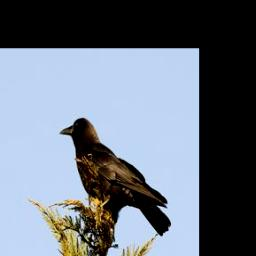Crow: (58, 113, 172, 241)
